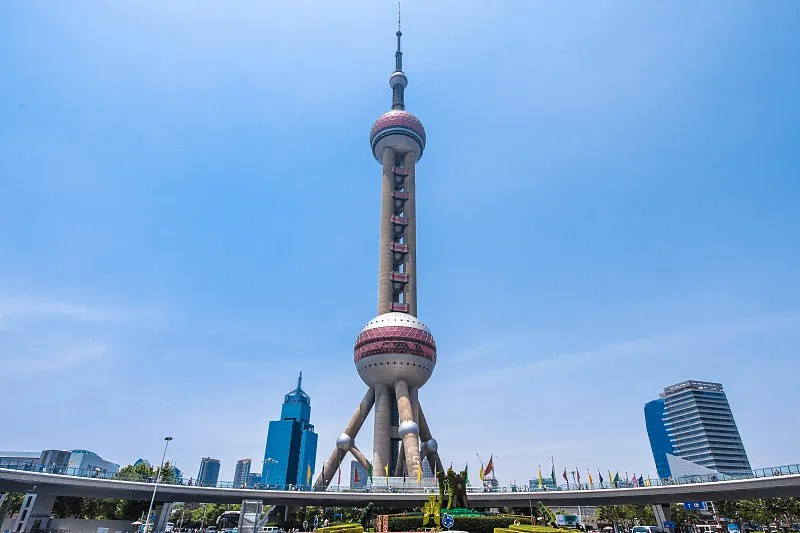Oriental: (314, 2, 443, 489)
